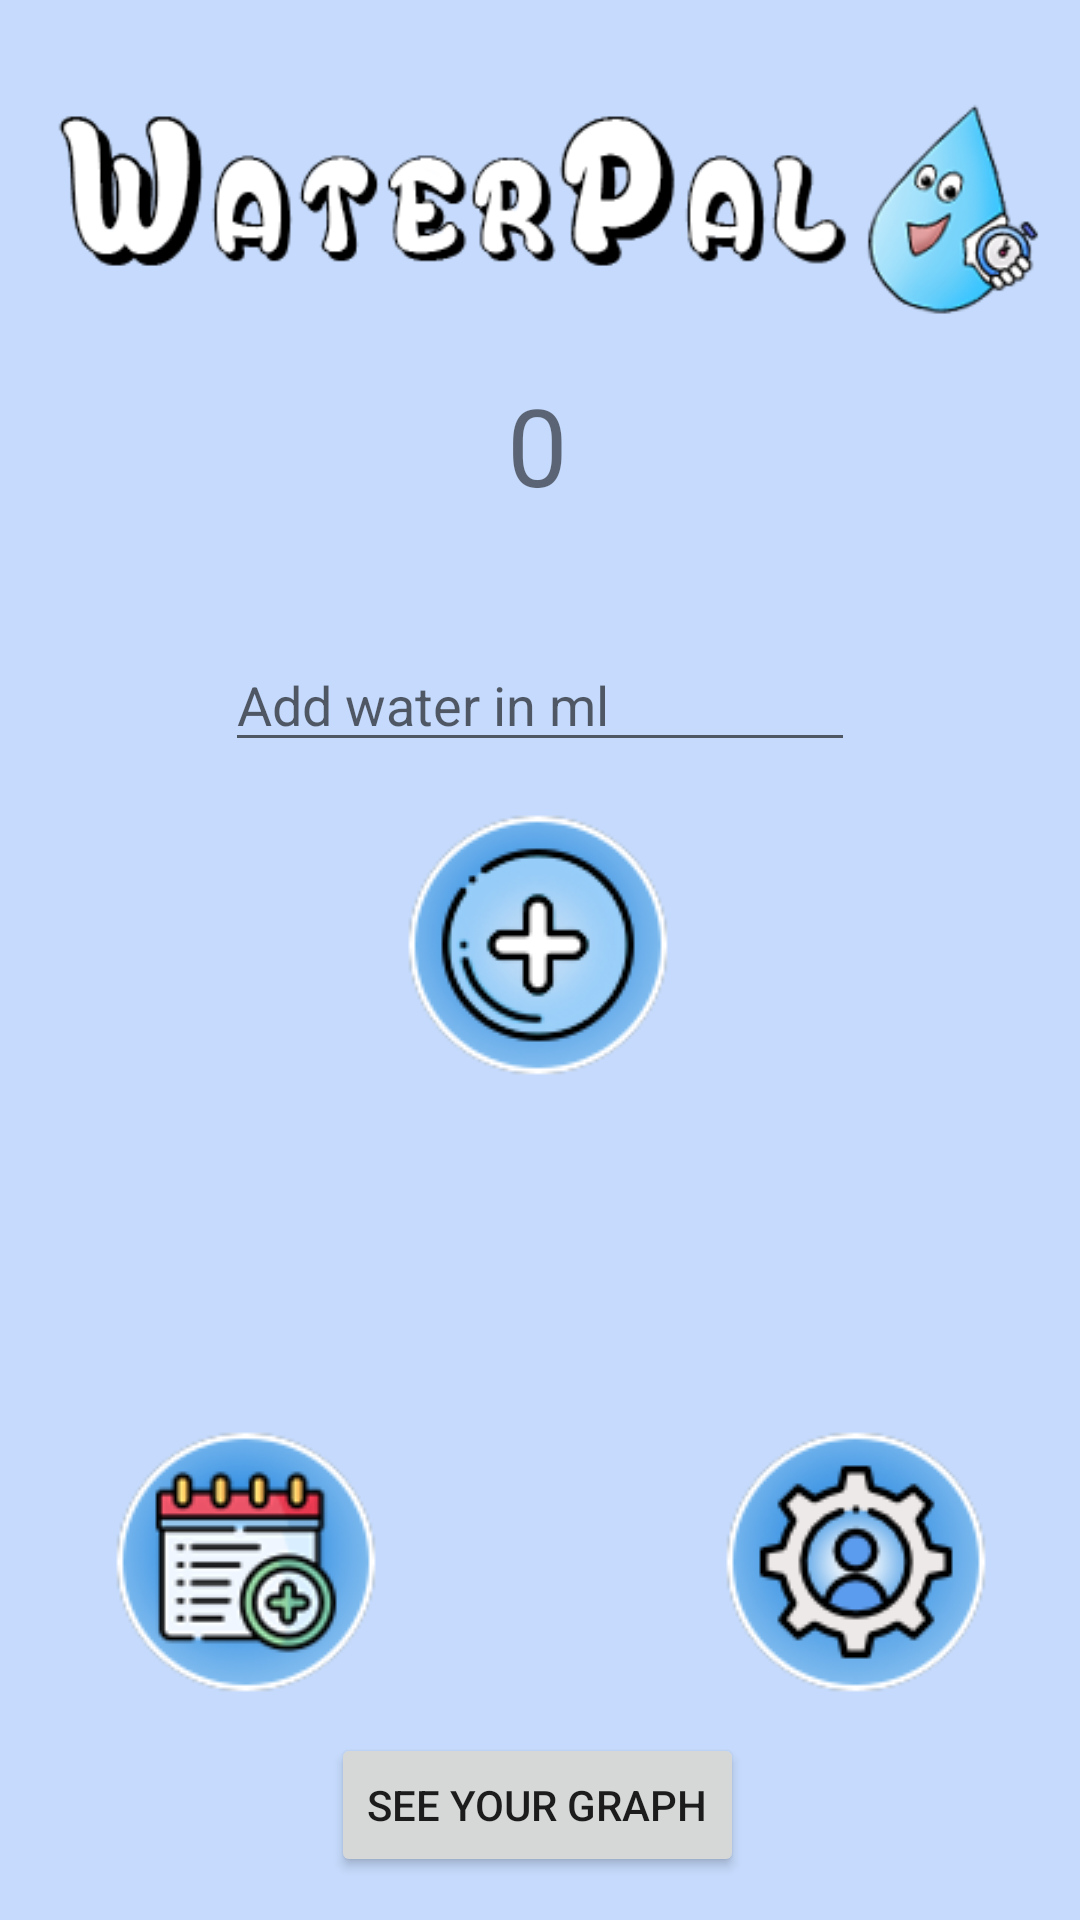

Icons on this 1080x1920 Android screen, each with the point to tap as (x,y):
add effect: (538,945)
calendar effect: (246,1562)
settings effect: (856,1562)
